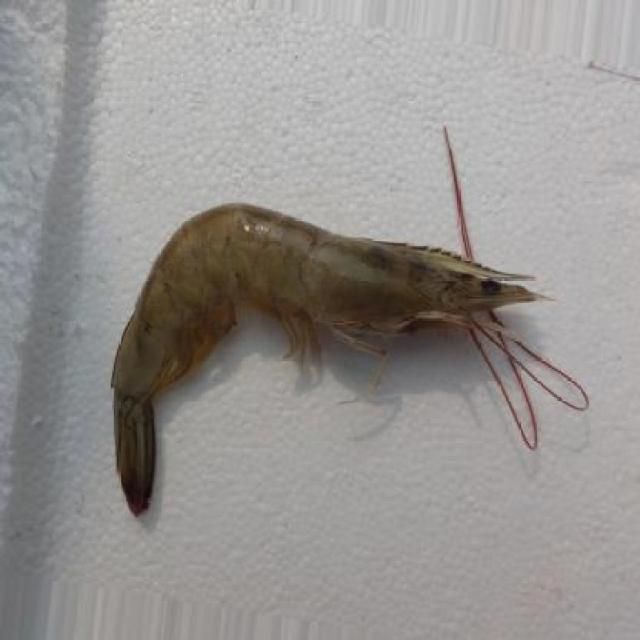shrimp: (104, 193, 565, 525)
